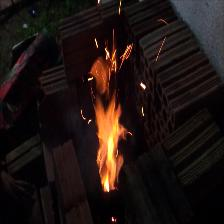fire: (76, 36, 150, 207)
